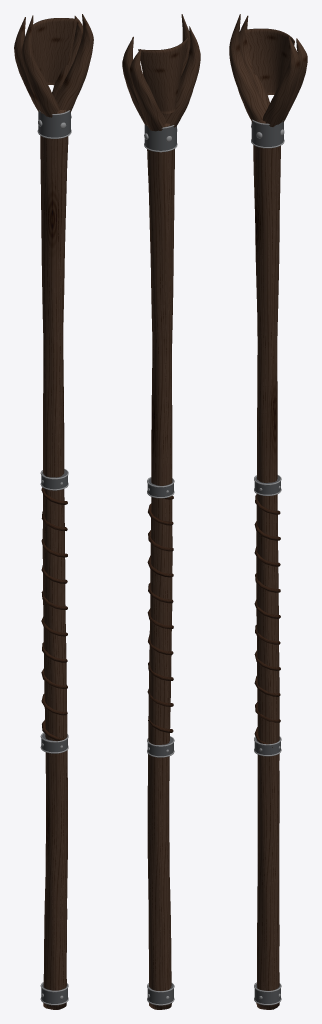
File: duskoak_staff.glb
3 views of the same model, side by side, from view 1: azimuth 30°, elevation 25°; view 2: azimuth 210°, elevation 25°; view 3: azimuth 330°, elevation 25° (orthographic).
Parts seen in each view (by area): view 1: Polished dark ash heartwood, Dark forged iron collars, Raised polished carved wood edges, Worn iron rim and rivet heads; view 2: Polished dark ash heartwood, Dark forged iron collars, Raised polished carved wood edges, Worn iron rim and rivet heads; view 3: Polished dark ash heartwood, Dark forged iron collars, Raised polished carved wood edges, Worn iron rim and rivet heads.
Part boxes in pixels (left/top/right/bottom): Polished dark ash heartwood: left=14, top=14, right=93, bottom=1009; Dark forged iron collars: left=38, top=111, right=70, bottom=1003; Raised polished carved wood edges: left=41, top=487, right=67, bottom=740; Worn iron rim and rivet heads: left=37, top=110, right=71, bottom=1005; Polished dark ash heartwood: left=122, top=14, right=200, bottom=1009; Dark forged iron collars: left=144, top=125, right=176, bottom=1004; Raised polished carved wood edges: left=147, top=496, right=173, bottom=732; Worn iron rim and rivet heads: left=144, top=125, right=177, bottom=1005; Polished dark ash heartwood: left=229, top=14, right=307, bottom=1009; Dark forged iron collars: left=251, top=121, right=283, bottom=1003; Raised polished carved wood edges: left=254, top=494, right=280, bottom=747; Worn iron rim and rivet heads: left=251, top=119, right=284, bottom=1005.
Size of the model in its own units: 0.133 by 1.82 by 0.0642.
Materials: 4 (2 with a texture image).
